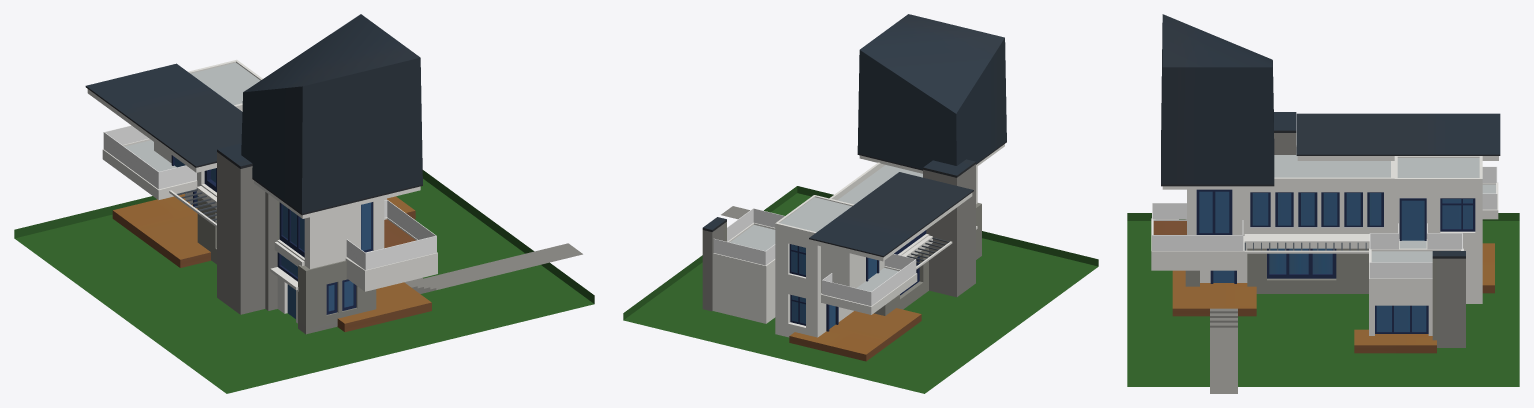
Rendered from asset.glb.
3 renders of one model, left to right at view 1: azimuth 30°, elevation 25°; view 2: azimuth 150°, elevation 25°; view 3: azimuth 270°, elevation 25°, orthographic. The views are drawn at different scales.
Visible parts, largest first — view 1: Cube_0 - baked, Plano_0 - baked, Cubo_0 - baked; view 2: Cube_0 - baked, Plano_0 - baked, Cubo_0 - baked; view 3: Cube_0 - baked, Plano_0 - baked, Cubo_0 - baked.
Part boxes in pixels (x1=…): Cube_0 - baked: x1=85, y1=14, x2=582, y2=334; Plano_0 - baked: x1=14, y1=170, x2=594, y2=393; Cubo_0 - baked: x1=103, y1=125, x2=436, y2=270; Cube_0 - baked: x1=702, y1=14, x2=1006, y2=361; Plano_0 - baked: x1=623, y1=186, x2=1098, y2=393; Cubo_0 - baked: x1=713, y1=208, x2=916, y2=306; Cube_0 - baked: x1=1151, y1=14, x2=1500, y2=393; Plano_0 - baked: x1=1127, y1=213, x2=1519, y2=386; Cubo_0 - baked: x1=1152, y1=166, x2=1497, y2=278.
Size of the model in its own units: 0.1092 by 0.0702 by 0.1.
3 materials, 1 textured.
